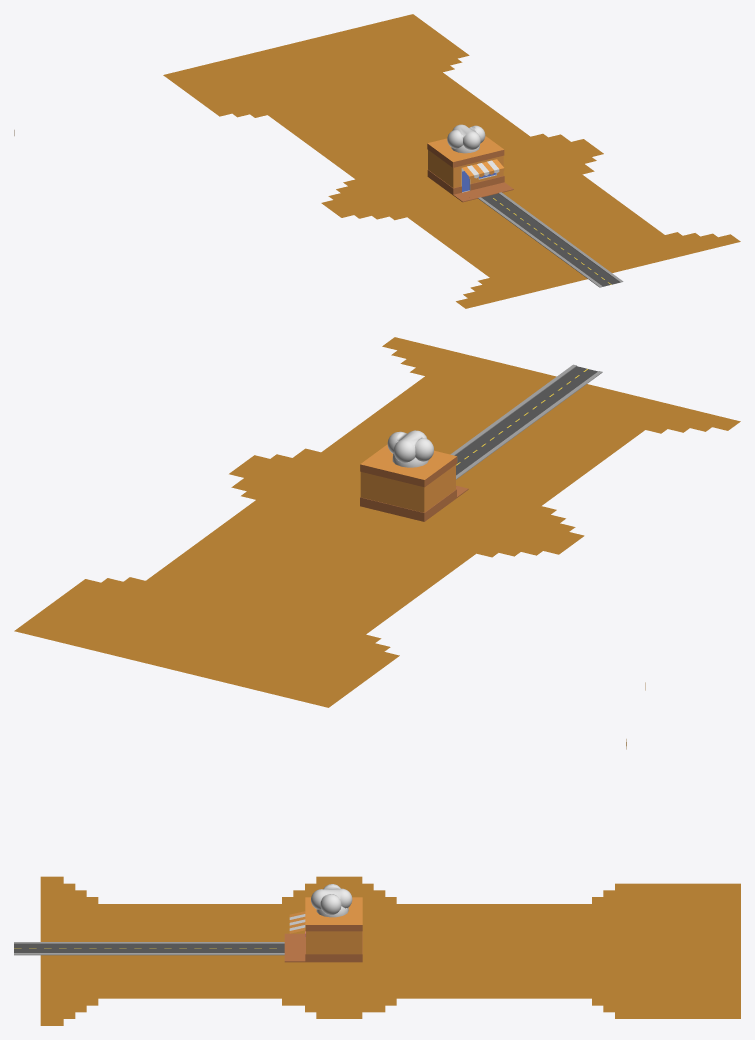
The model's file is Fase Central.fbx.
The picture shows the model from 3 angles, top to bottom: view 1: azimuth 30°, elevation 25°; view 2: azimuth 150°, elevation 25°; view 3: azimuth 270°, elevation 25°; orthographic projection. The views are drawn at different scales.
Parts seen in each view (by area): view 1: Plano central, Restaurante, Rua Reta, Chapeu; view 2: Plano central, Restaurante, Rua Reta, Chapeu; view 3: Plano central, Restaurante, Rua Reta, Chapeu.
Boxes of the visible parts, box(x1,y1,x2,y2) form: Plano central: box(14, 14, 740, 308); Restaurante: box(427, 136, 513, 202); Rua Reta: box(478, 192, 623, 287); Chapeu: box(447, 124, 485, 153); Plano central: box(14, 337, 740, 707); Restaurante: box(360, 444, 468, 521); Rua Reta: box(450, 364, 602, 479); Chapeu: box(387, 430, 433, 467); Plano central: box(40, 739, 740, 1025); Restaurante: box(284, 897, 362, 962); Rua Reta: box(14, 942, 284, 955); Chapeu: box(311, 884, 352, 917).
Size of the model in its own units: 6806 by 736 by 8338.
